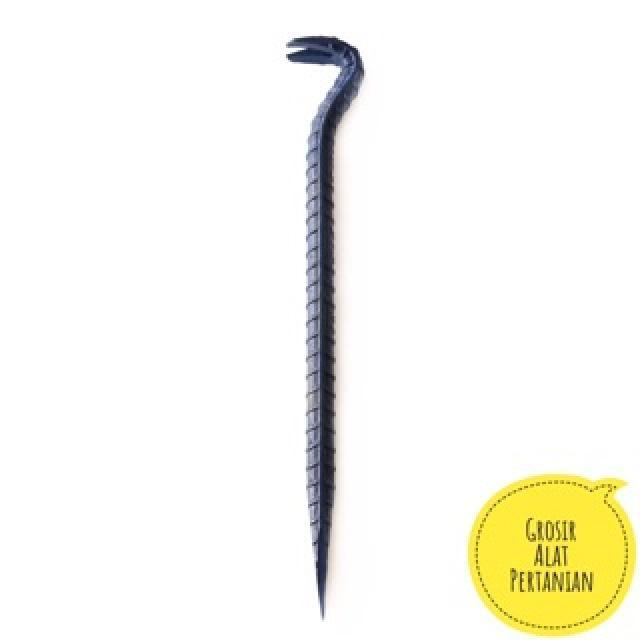Linggis: (280, 29, 370, 630)
